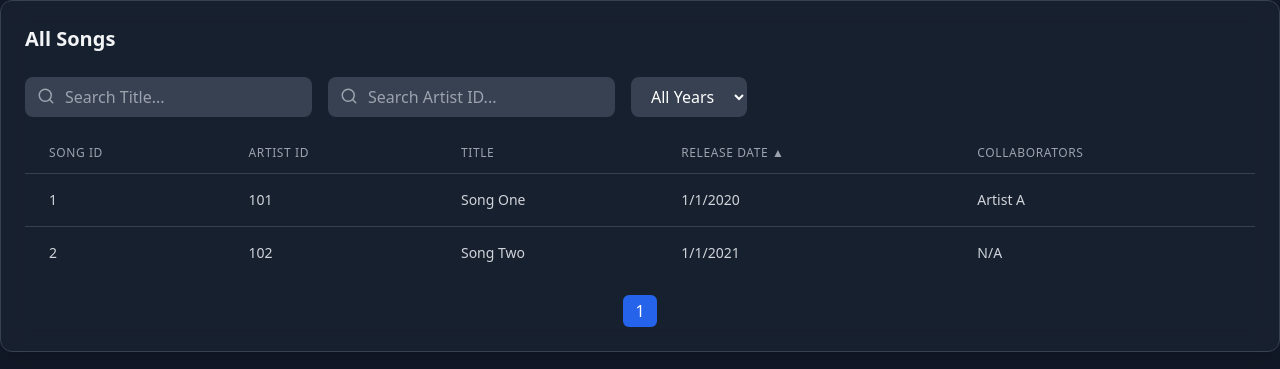
Scenario: AllSongs Component › filters songs based on release year selection
Expected: the text "Song One" is shown, [437,174,657,226]
Change the selection to 2021
Select "2021" in the dropdown at [689, 97], box [631,77,747,117]
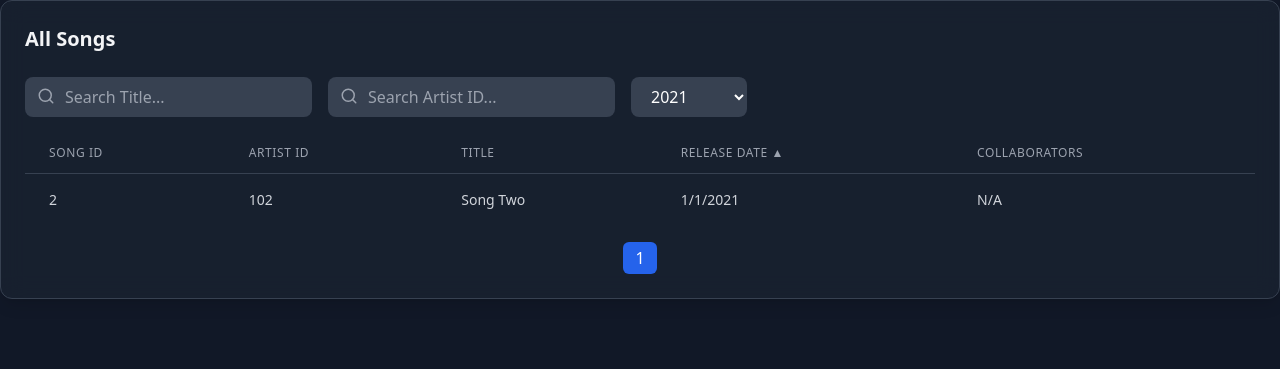
Expected: the text "Song Two" is shown, [437,174,657,226]
Expected: the text "Song One" is gone
